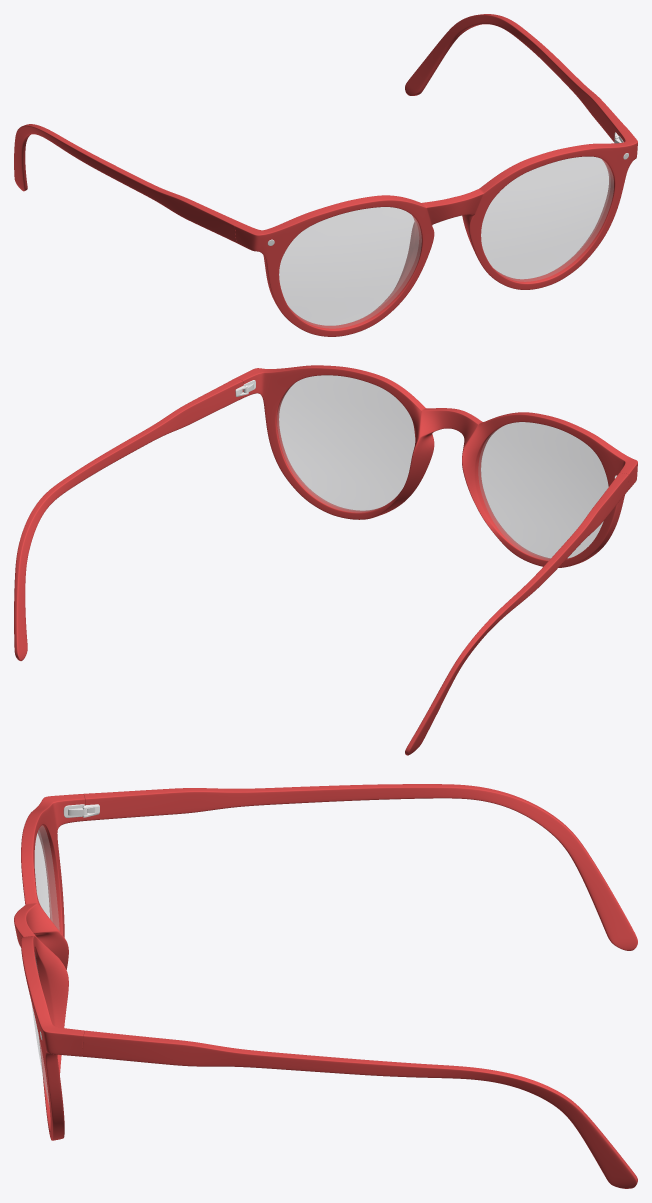
The model's file is glasses-12.glb.
The picture shows the model from 3 angles, top to bottom: view 1: azimuth 30°, elevation 25°; view 2: azimuth 150°, elevation 25°; view 3: azimuth 270°, elevation 25°; orthographic projection. The views are drawn at different scales.
Visible parts, largest first — view 1: Object_4, Object_2, Object_3; view 2: Object_4, Object_2, Object_3; view 3: Object_2, Object_3, Object_4.
Boxes of the visible parts, x1,y1,x2,y2 form: Object_4: (279,156,613,328); Object_2: (14,14,637,336); Object_3: (18,14,636,334); Object_4: (277,375,608,560); Object_2: (15,365,637,755); Object_3: (14,368,635,751); Object_2: (14,784,637,1140); Object_3: (15,785,637,1188); Object_4: (31,825,59,1106).
Size of the model in its own units: 10.74 by 3.1 by 9.93.
